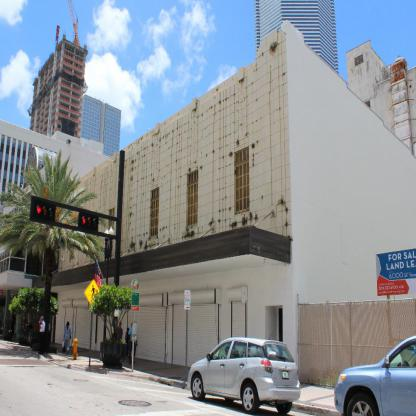Car: (187, 324, 300, 416), (333, 332, 415, 415)
